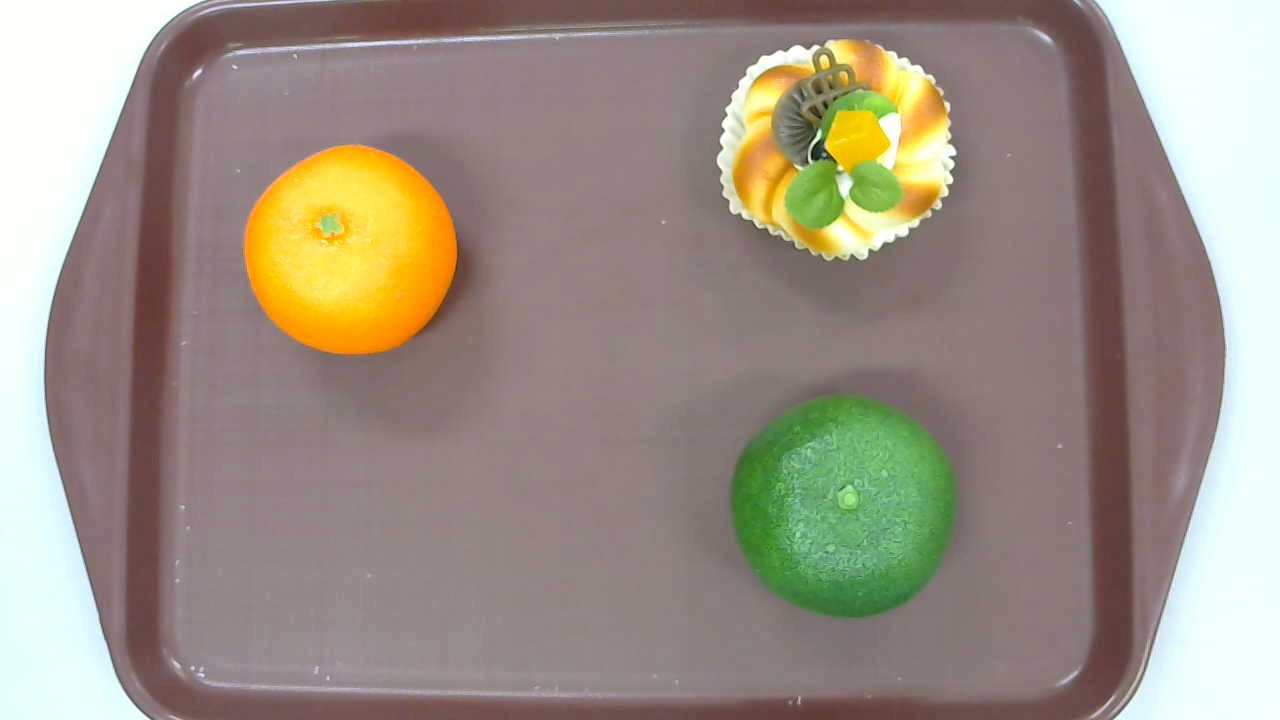fruit tart: (716, 36, 956, 263)
green orange: (729, 392, 958, 617)
orange: (243, 144, 457, 357)
